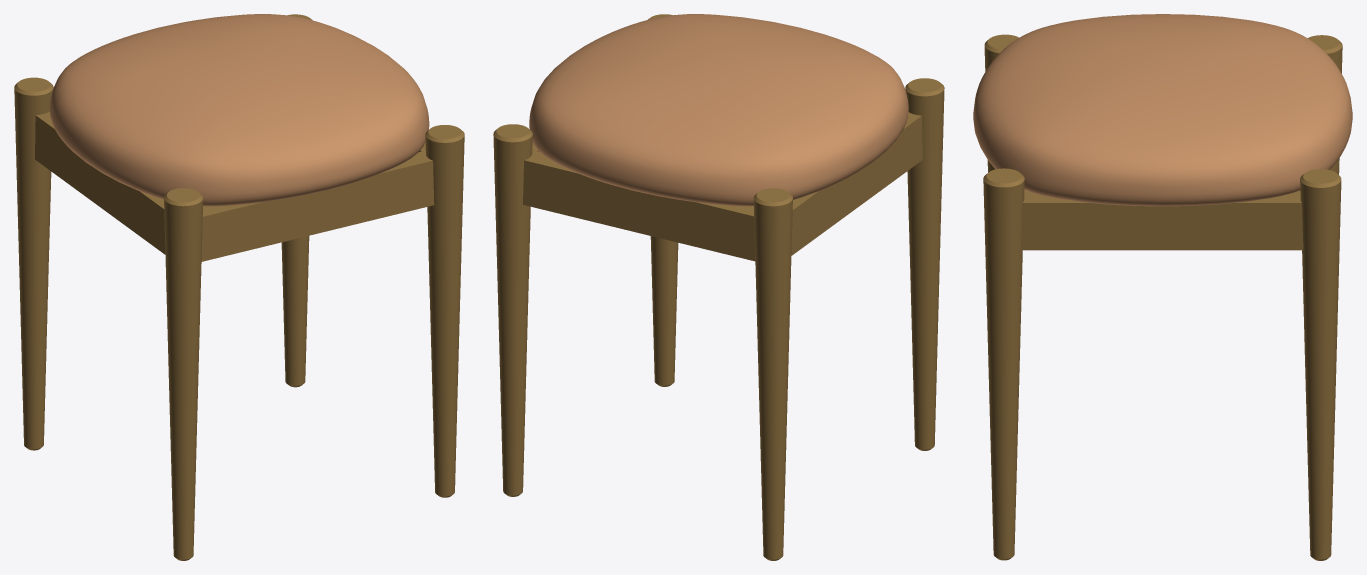
File: 647_スツール.glb
The picture shows the model from 3 angles, left to right: view 1: azimuth 30°, elevation 25°; view 2: azimuth 150°, elevation 25°; view 3: azimuth 270°, elevation 25°; orthographic projection. The views are drawn at different scales.
Parts seen in each view (by area): view 1: Body6, Body2; view 2: Body6, Body2; view 3: Body6, Body2.
Boxes of the visible parts, left/top/right/bottom form: Body6: left=49, top=14, right=429, bottom=206; Body2: left=14, top=14, right=464, bottom=560; Body6: left=529, top=14, right=908, bottom=206; Body2: left=493, top=14, right=944, bottom=560; Body6: left=973, top=14, right=1352, bottom=206; Body2: left=983, top=34, right=1342, bottom=560.
Bounding box in the file's own units: 0.3673 × 0.4527 × 0.3652.
